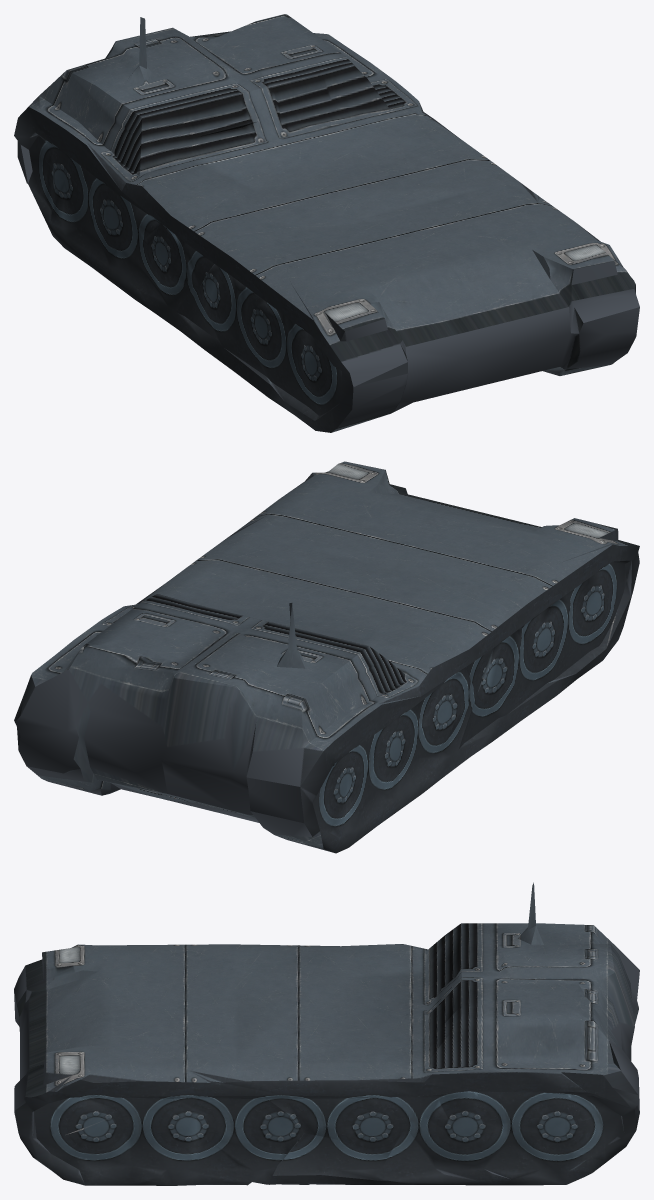
Rendered from chassis_repaint.glb.
3 renders of one model, top to bottom at view 1: azimuth 30°, elevation 25°; view 2: azimuth 150°, elevation 25°; view 3: azimuth 270°, elevation 25°, orthographic. The views are drawn at different scales.
Parts seen in each view (by area): view 1: geometry_0; view 2: geometry_0; view 3: geometry_0.
Boxes of the visible parts, box(x1,y1,x2,y2) form: geometry_0: box(14, 14, 639, 432); geometry_0: box(14, 461, 639, 853); geometry_0: box(14, 882, 639, 1185).
Bounding box in the file's own units: 0.5154 × 0.3638 × 1.
1 material, 1 textured.
